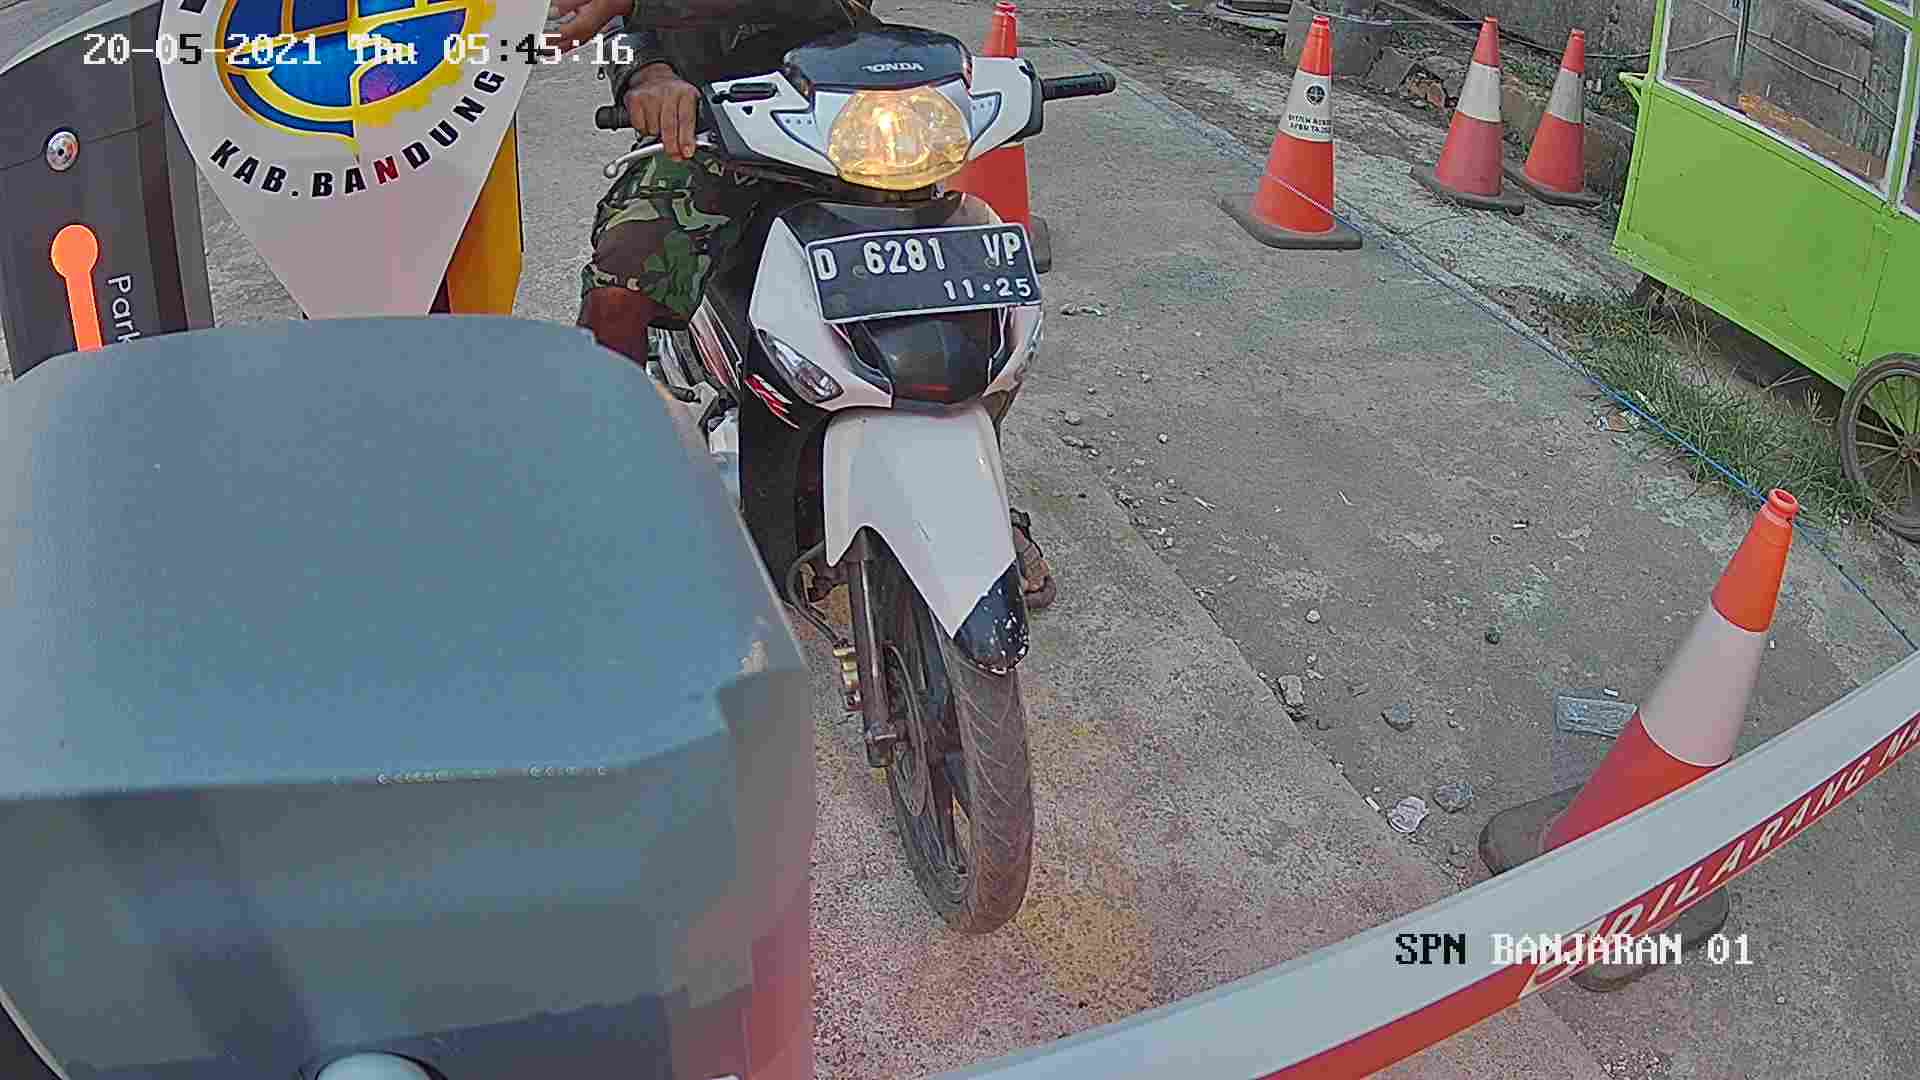motor: (589, 63, 1212, 924)
